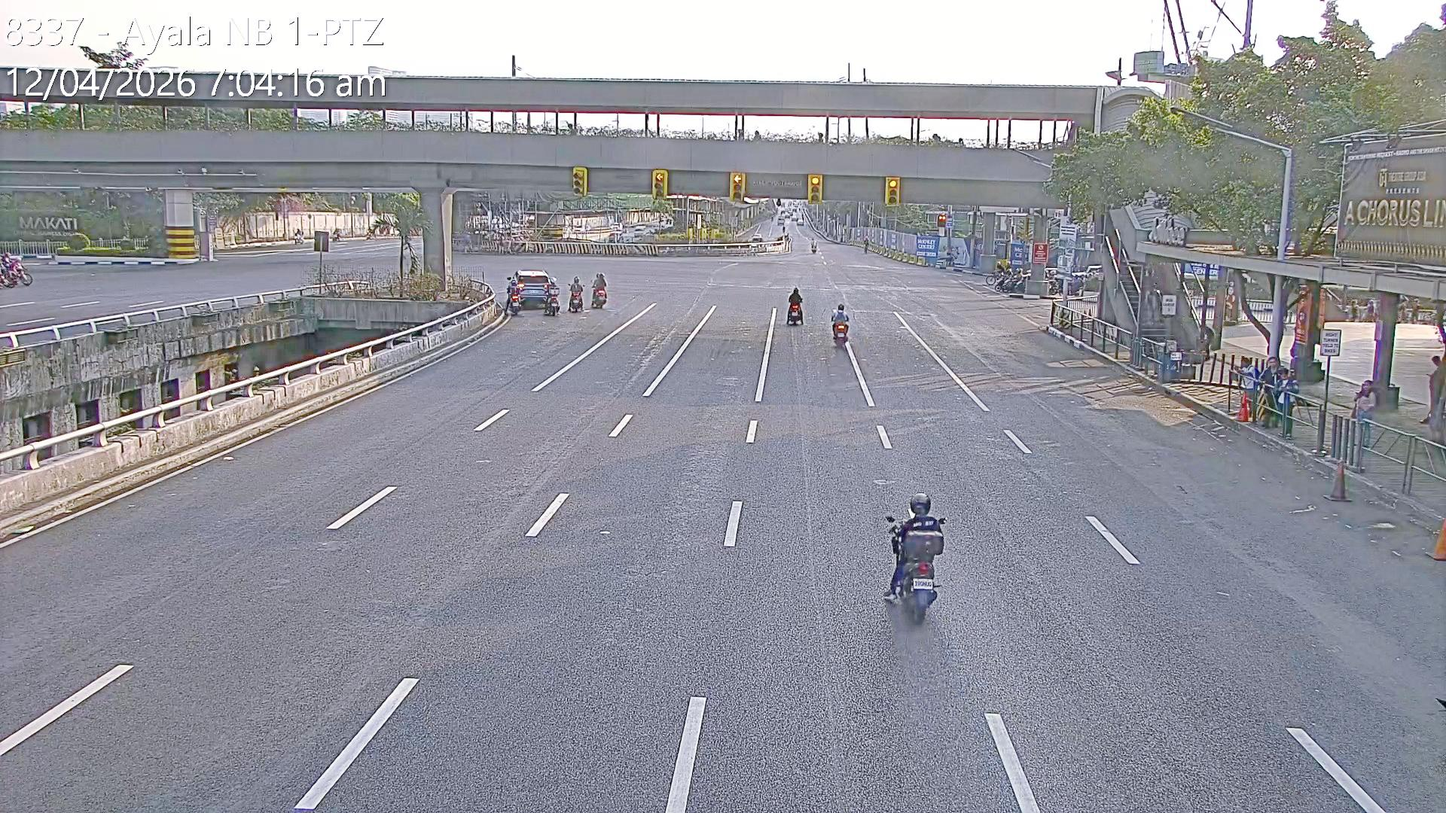Car: (512, 269, 557, 312)
Motor: (884, 514, 945, 624), (2, 256, 32, 289), (828, 304, 850, 345), (590, 271, 610, 310), (1001, 267, 1025, 293), (1013, 268, 1034, 296), (543, 284, 561, 315), (506, 281, 523, 313), (993, 270, 1013, 293), (785, 299, 801, 327), (569, 285, 584, 312), (292, 227, 307, 247)
Not Accident: (504, 265, 562, 322)
